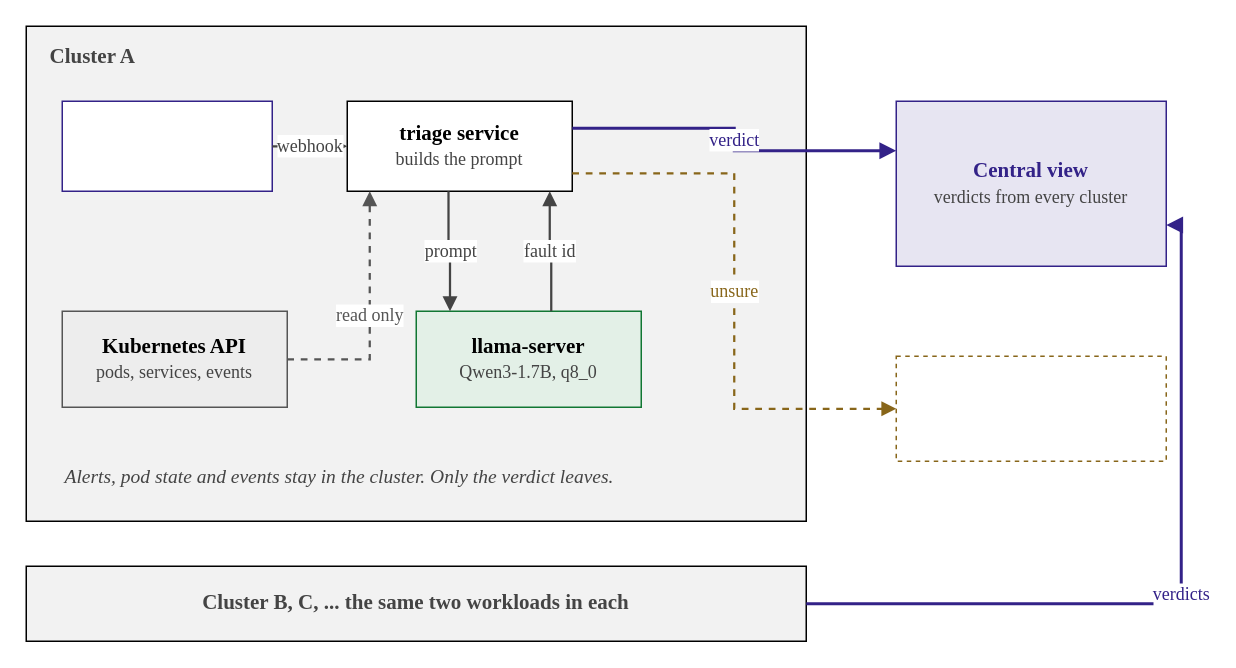
The diagram is 1236 pixels wide and 668 high, and some of its shapes have lost their labels. Here are the shapes that lost their labels. From the top down, the centre of each, then its label:
pixel 166 145: Alertmanager
pixel 1030 408: Large model API escalation, not measured here
